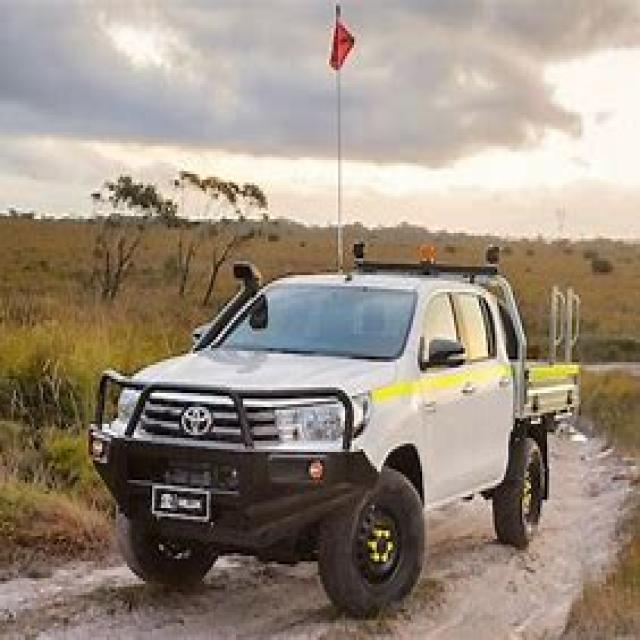light_vehicle: (82, 244, 592, 623)
